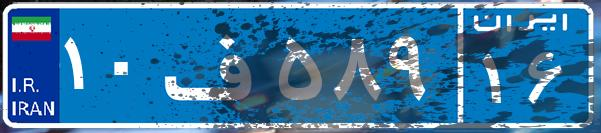0: (110, 28, 158, 105)
1: (57, 26, 110, 107), (475, 38, 525, 113)
5: (273, 28, 330, 110)
6: (525, 38, 570, 115)
8: (330, 28, 385, 110)
9: (385, 28, 445, 110)
ف: (158, 15, 273, 115)
